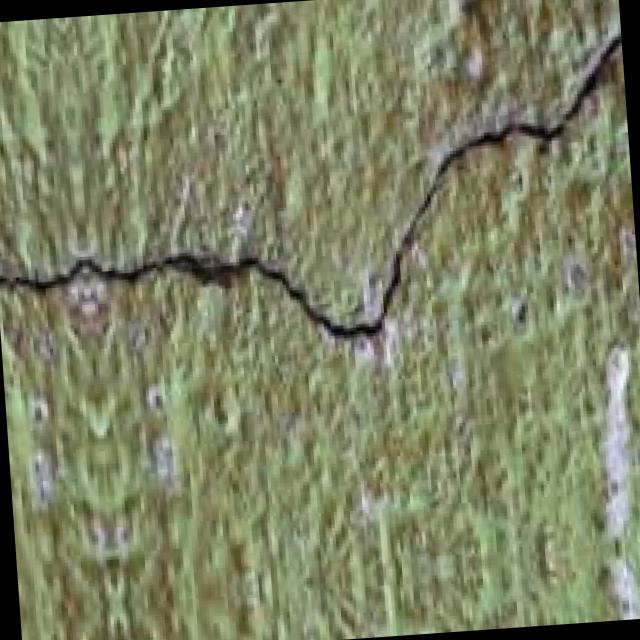crack: (0, 55, 637, 364)
